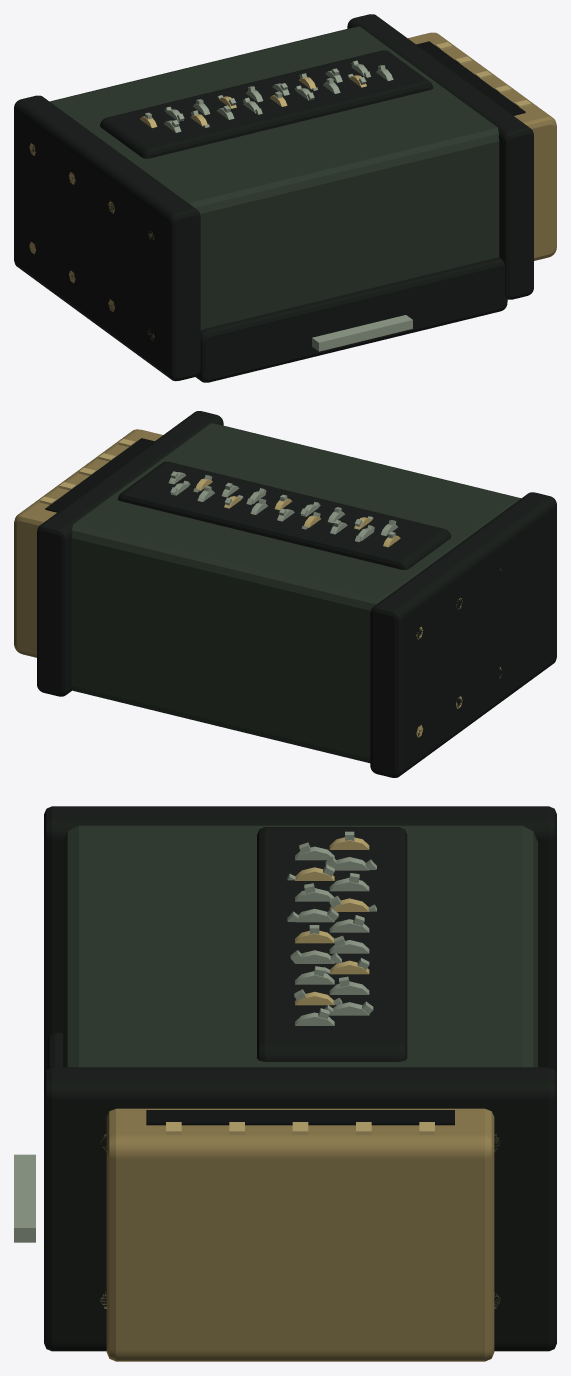
The model's file is soviet_shredder.glb.
The picture shows the model from 3 angles, top to bottom: view 1: azimuth 30°, elevation 25°; view 2: azimuth 150°, elevation 25°; view 3: azimuth 270°, elevation 25°; orthographic projection. The views are drawn at different scales.
Visible parts, largest first — view 1: UnichtozhitelShredder84; view 2: UnichtozhitelShredder84; view 3: UnichtozhitelShredder84.
Part boxes in pixels (x1,y1,x2,y2): UnichtozhitelShredder84: [14, 14, 556, 382]; UnichtozhitelShredder84: [14, 411, 556, 777]; UnichtozhitelShredder84: [14, 806, 556, 1361].
Bounding box in the file's own units: 0.476 × 0.2162 × 0.343.
